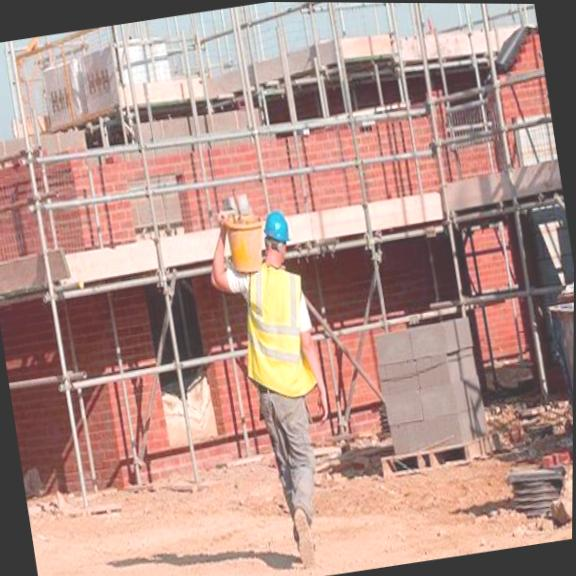safety_vest: (225, 257, 324, 408)
